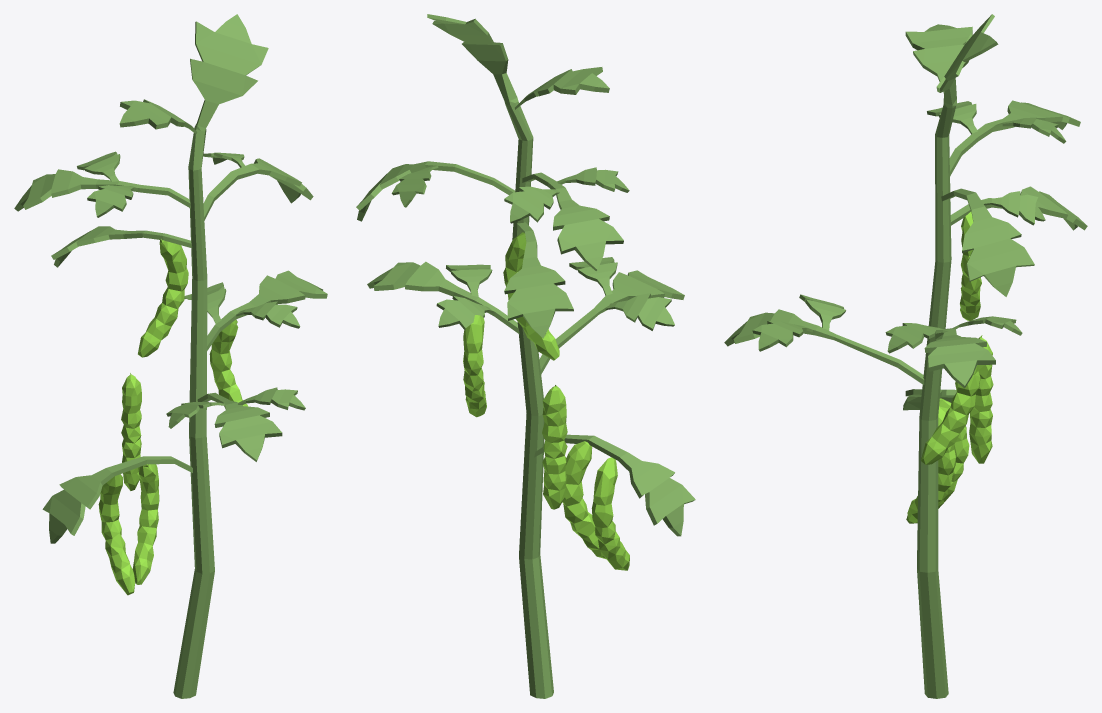
Rendered from Haricot_4-optimized.glb.
3 renders of one model, left to right at view 1: azimuth 30°, elevation 25°; view 2: azimuth 150°, elevation 25°; view 3: azimuth 270°, elevation 25°, orthographic. The views are drawn at different scales.
Parts seen in each view (by area): view 1: Tomato_4, Cylinder.003, Cylinder, Cylinder.001, Cylinder.004, Cylinder.002; view 2: Tomato_4, Cylinder.004, Cylinder, Cylinder.001, Cylinder.002, Cylinder.003; view 3: Tomato_4, Cylinder.002, Cylinder.004, Cylinder.003, Cylinder.001, Cylinder.
Boxes of the visible parts, x1,y1,x2,y2 form: Tomato_4: (14, 14, 327, 698); Cylinder.003: (138, 239, 188, 357); Cylinder: (98, 474, 135, 595); Cylinder.001: (132, 464, 159, 584); Cylinder.004: (121, 373, 141, 490); Cylinder.002: (209, 319, 248, 406); Tomato_4: (356, 14, 695, 698); Cylinder.004: (542, 385, 567, 509); Cylinder: (591, 457, 629, 570); Cylinder.001: (562, 441, 605, 558); Cylinder.002: (463, 315, 486, 417); Cylinder.003: (503, 232, 559, 360); Tomato_4: (724, 14, 1087, 698); Cylinder.002: (921, 336, 980, 464); Cylinder.004: (969, 335, 993, 463); Cylinder.003: (960, 212, 981, 320); Cylinder.001: (907, 407, 955, 522); Cylinder: (906, 398, 969, 523).
Size of the model in its own units: 0.7932 by 1.72 by 0.81.
